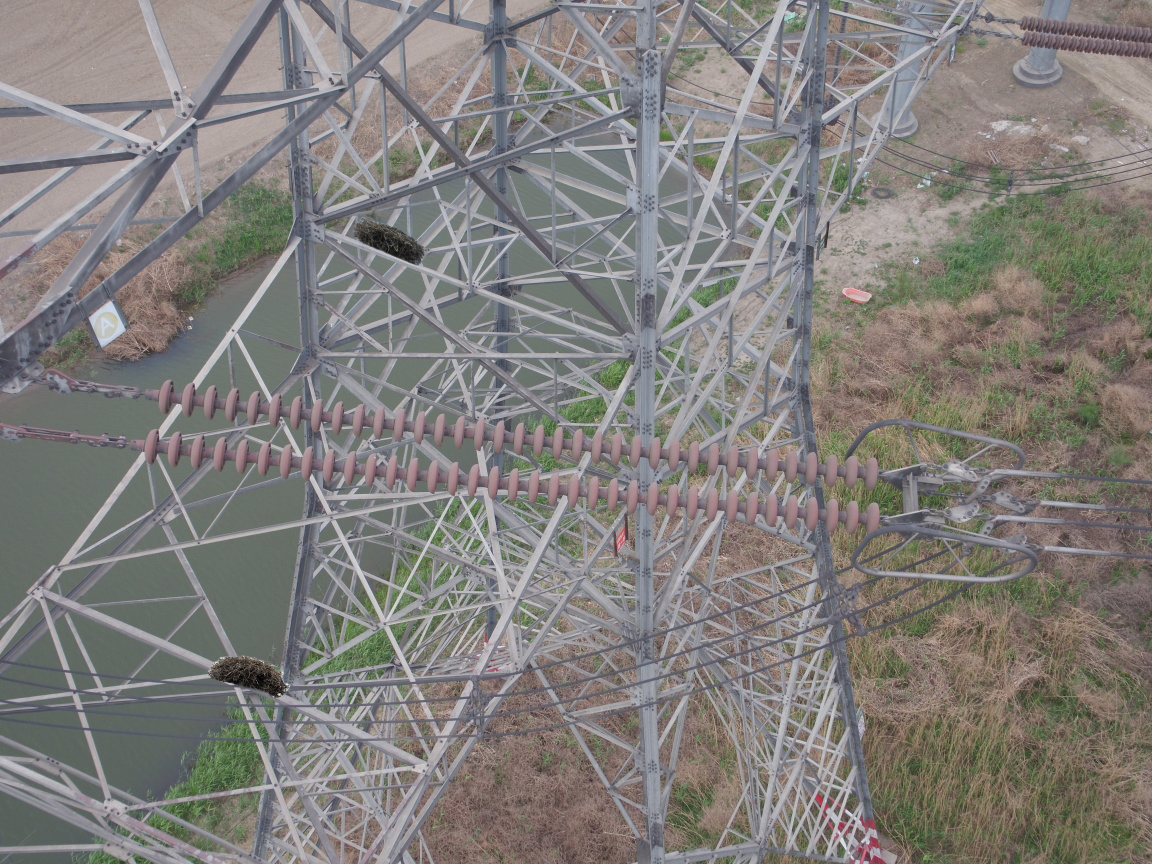nest: (200, 648, 296, 699), (349, 212, 428, 271)
